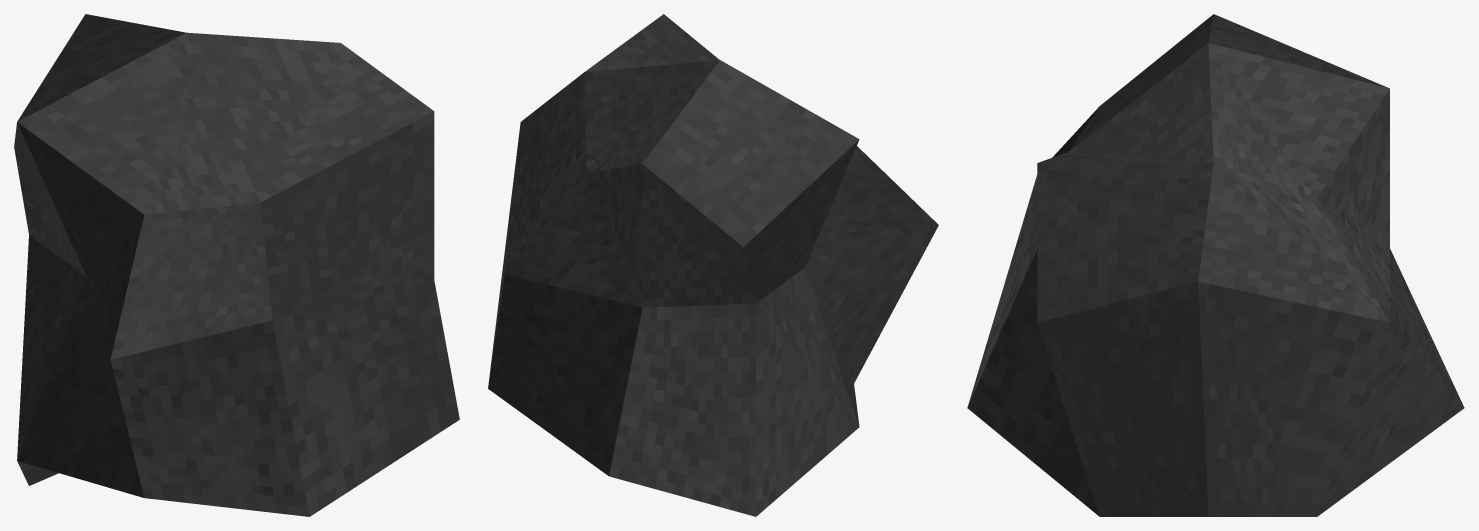
File: rock01.glb
3 renders of one model, left to right at view 1: azimuth 30°, elevation 25°; view 2: azimuth 150°, elevation 25°; view 3: azimuth 270°, elevation 25°, orthographic. The views are drawn at different scales.
Visible parts, largest first — view 1: Cube; view 2: Cube; view 3: Cube.
Part boxes in pixels (left/top/right/bottom): Cube: left=14, top=14, right=459, bottom=516; Cube: left=488, top=14, right=938, bottom=516; Cube: left=967, top=14, right=1464, bottom=516.
Bounding box in the file's own units: 4.08 × 4.51 × 4.57.
1 material, 1 textured.
